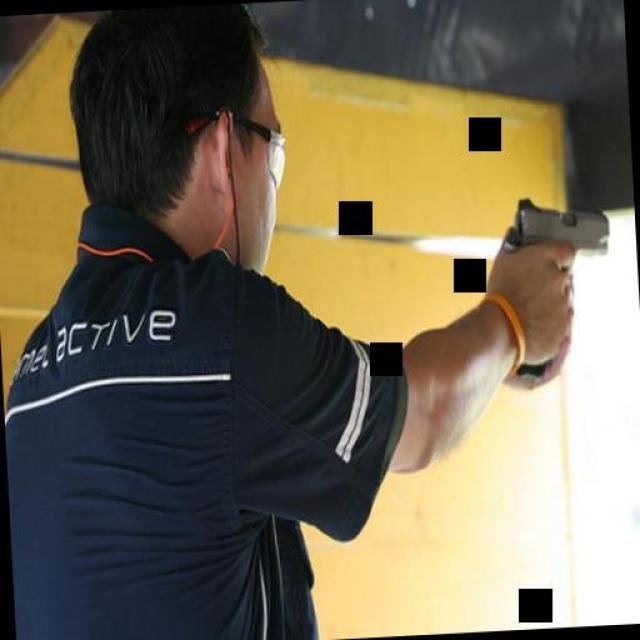gun: (500, 191, 624, 380)
